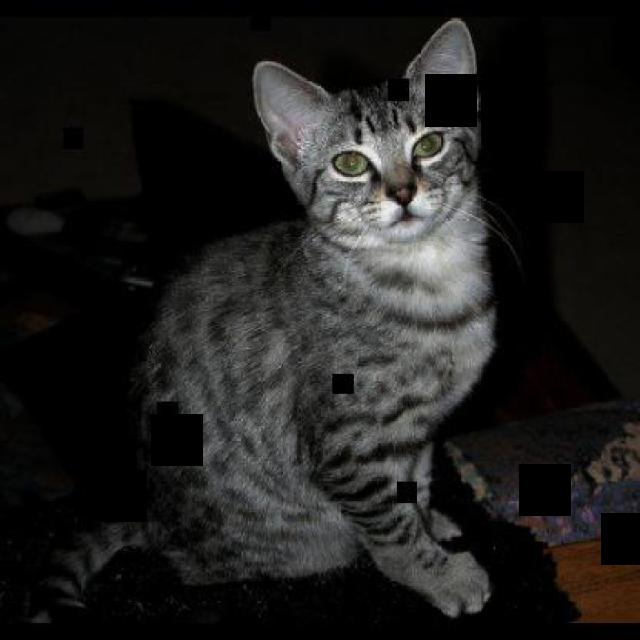unauthorized: (28, 15, 512, 623)
